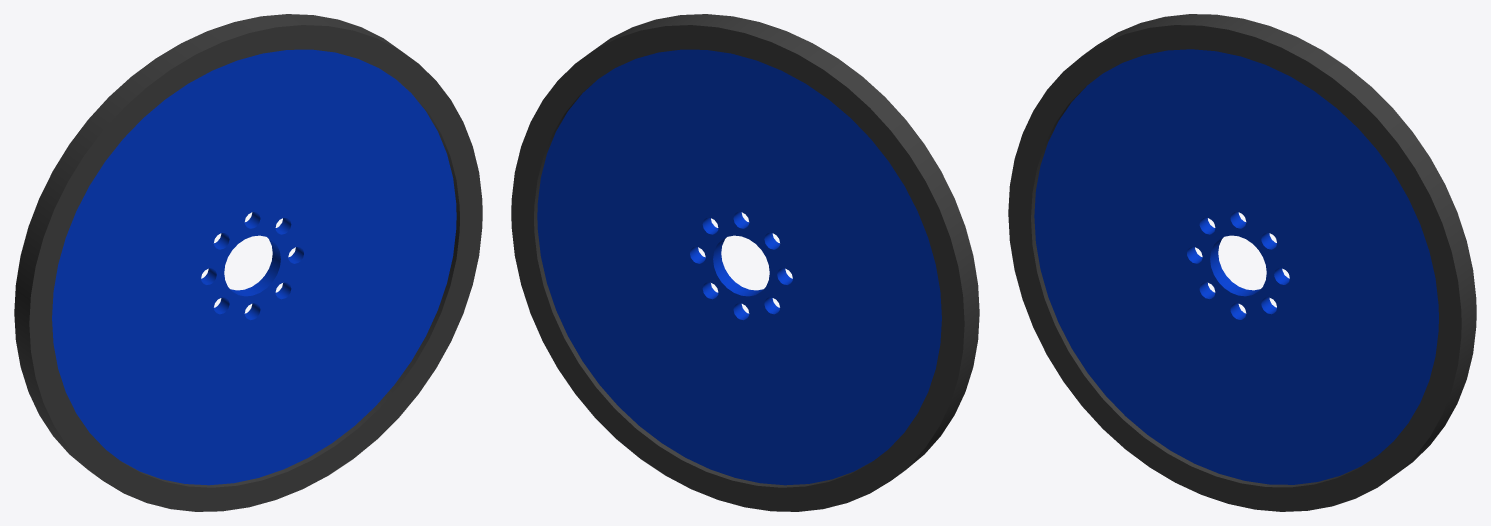
File: ROB-12447.obj
3 views of the same model, side by side, from view 1: azimuth 30°, elevation 25°; view 2: azimuth 150°, elevation 25°; view 3: azimuth 330°, elevation 25° (orthographic).
Visible parts, largest first — view 1: mesh 2 Boss-Extrude1, mesh 1 RO; view 2: mesh 2 Boss-Extrude1, mesh 1 RO; view 3: mesh 2 Boss-Extrude1, mesh 1 RO.
Boxes of the visible parts, left/top/right/bottom form: mesh 2 Boss-Extrude1: left=52, top=49, right=456, bottom=485; mesh 1 RO: left=14, top=14, right=482, bottom=511; mesh 2 Boss-Extrude1: left=537, top=49, right=941, bottom=485; mesh 1 RO: left=511, top=14, right=979, bottom=511; mesh 2 Boss-Extrude1: left=1034, top=49, right=1438, bottom=484; mesh 1 RO: left=1008, top=14, right=1476, bottom=511.
Bounding box in the file's own units: 0.1016 × 0.1016 × 0.00584.
